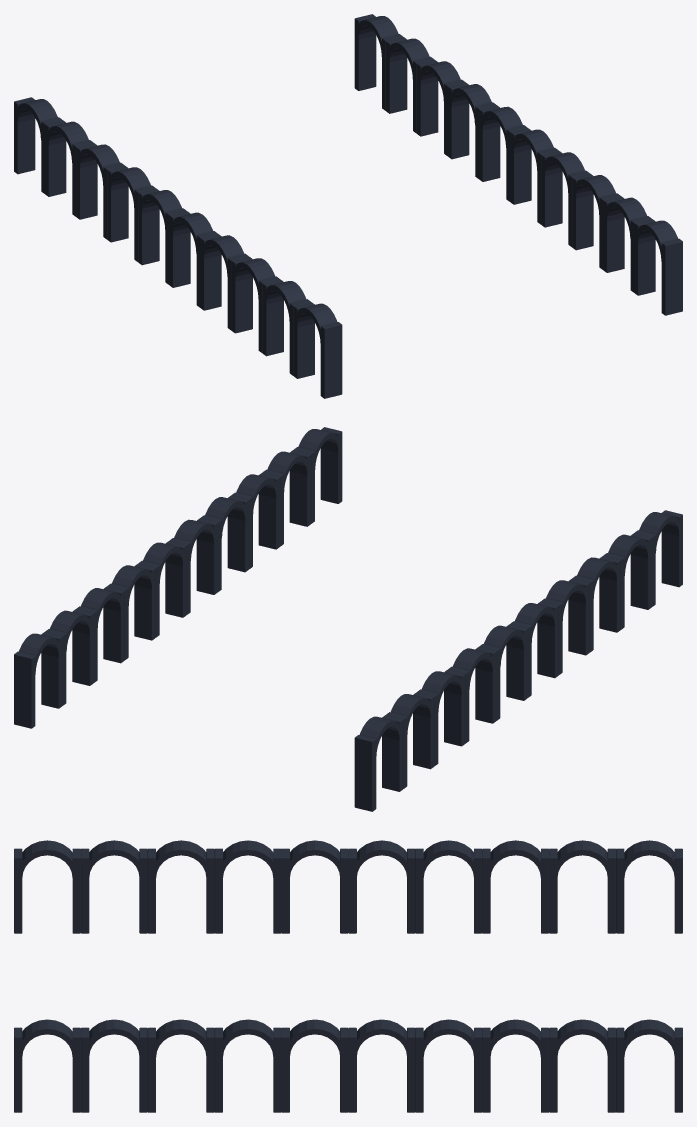
The model's file is AlcoveFrames_WallStone.fbx.
The picture shows the model from 3 angles, top to bottom: view 1: azimuth 30°, elevation 25°; view 2: azimuth 150°, elevation 25°; view 3: azimuth 270°, elevation 25°; orthographic projection. The views are drawn at different scales.
Parts seen in each view (by area): view 1: Pier-1_-16_-10.001; view 2: Pier-1_-16_-10.001; view 3: Pier-1_-16_-10.001.
Boxes of the visible parts, bbox=[...] form: Pier-1_-16_-10.001: bbox=[14, 14, 682, 398]; Pier-1_-16_-10.001: bbox=[14, 427, 682, 811]; Pier-1_-16_-10.001: bbox=[14, 840, 682, 1112].
Size of the model in its own units: 16000 by 3320 by 24000.
